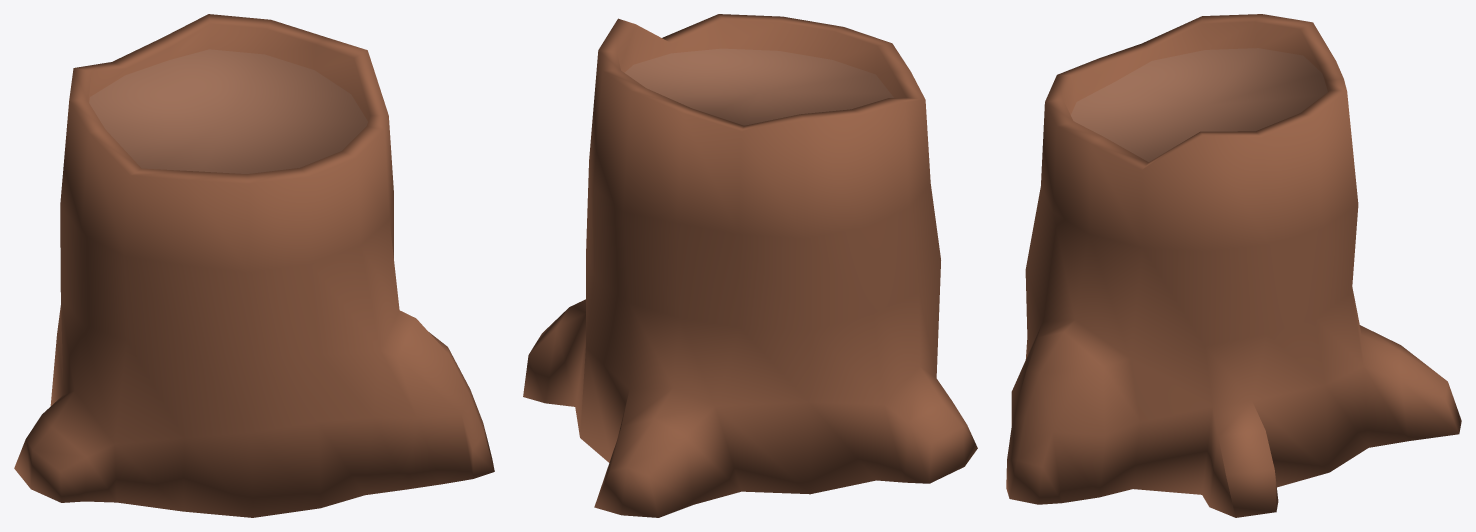
The model's file is V1.StumpDecor02.fbx.
3 views of the same model, side by side, from view 1: azimuth 30°, elevation 25°; view 2: azimuth 150°, elevation 25°; view 3: azimuth 270°, elevation 25° (orthographic). The views are drawn at different scales.
Parts seen in each view (by area): view 1: Cylinder; view 2: Cylinder; view 3: Cylinder.
Part boxes in pixels (<box>): Cylinder: <box>14,14,494,517</box>; Cylinder: <box>523,14,977,517</box>; Cylinder: <box>1006,14,1461,517</box>.
Bounding box in the file's own units: 255 × 216 × 252.
